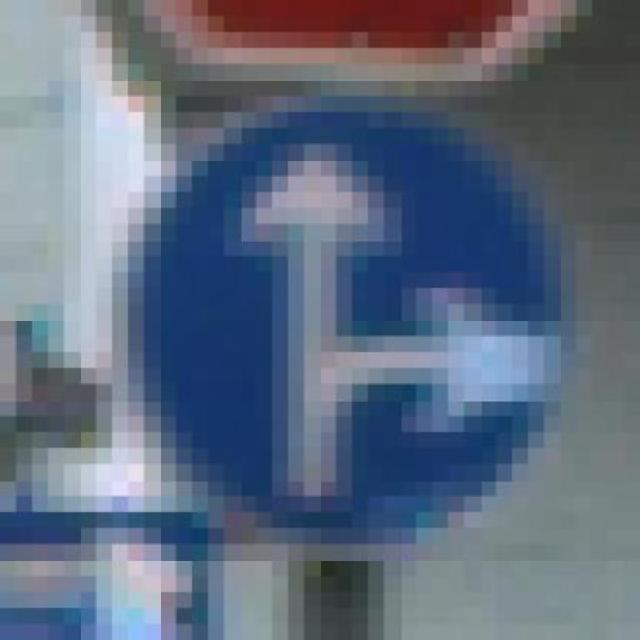Go Straight or Turn Right: (95, 112, 592, 576)
